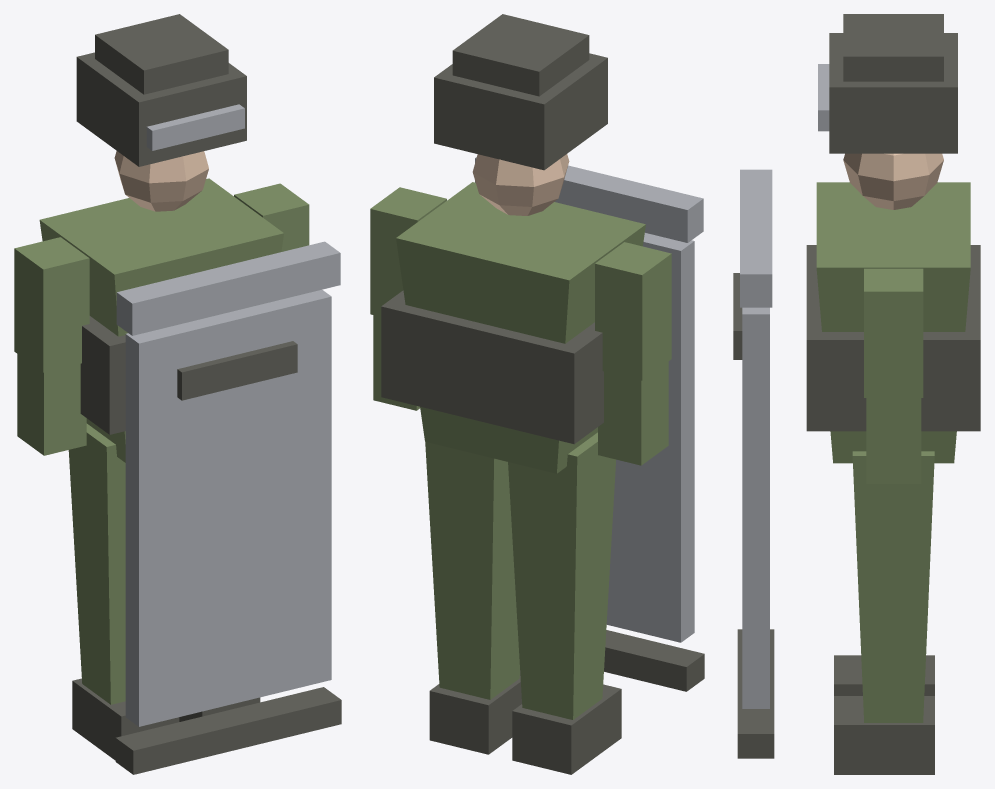
Rendered from unit_shield_rigged.glb.
3 views of the same model, side by side, from view 1: azimuth 30°, elevation 25°; view 2: azimuth 150°, elevation 25°; view 3: azimuth 270°, elevation 25° (orthographic). The views are drawn at different scales.
Visible parts, largest first — view 1: trim_torso, accent_torso, accent_head, body_torso, body_leg-right, body_arm-right, body_elbow-right, skin_head, accent_leg-right, body_arm-left, trim_head; view 2: body_torso, trim_torso, accent_torso, body_leg-right, accent_head, body_leg-left, body_arm-right, accent_leg-right, body_elbow-right, accent_leg-left, body_arm-left, skin_head (+1 smaller); view 3: body_torso, body_leg-left, accent_torso, accent_head, trim_torso, body_arm-left, accent_leg-left, body_elbow-left, skin_head, accent_leg-right, trim_head.
Part boxes in pixels (x1,y1,x2,y2): trim_torso: (116,241,340,726); accent_torso: (80,316,341,774); accent_head: (76,14,246,166); body_torso: (39,178,283,462); body_leg-right: (68,423,125,704); body_arm-right: (14,237,89,372); body_elbow-right: (17,354,86,455); skin_head: (114,151,208,211); accent_leg-right: (72,678,179,760); body_arm-left: (234,183,309,251); trim_head: (146,104,244,150); body_torso: (396,182,645,473); trim_torso: (475,157,703,642); accent_torso: (381,290,704,691); body_leg-right: (508,432,615,719); accent_head: (434,14,607,170); body_leg-left: (425,442,519,699); body_arm-right: (595,242,671,380); accent_leg-right: (512,684,621,774); body_elbow-right: (598,361,668,465); accent_leg-left: (429,670,521,754); body_arm-left: (370,187,446,316); skin_head: (472,154,569,215); body_torso: (816,182,970,463); body_leg-left: (852,451,934,722); accent_torso: (733,245,980,758); accent_head: (829,14,957,153); trim_torso: (740,169,772,708); body_arm-left: (864,268,923,397); accent_leg-left: (834,696,934,774); body_elbow-left: (866,398,921,483); skin_head: (843,153,943,209); accent_leg-right: (834,655,934,695); trim_head: (818,64,829,131).
Size of the model in its own units: 1.2 by 2.96 by 0.9406.
